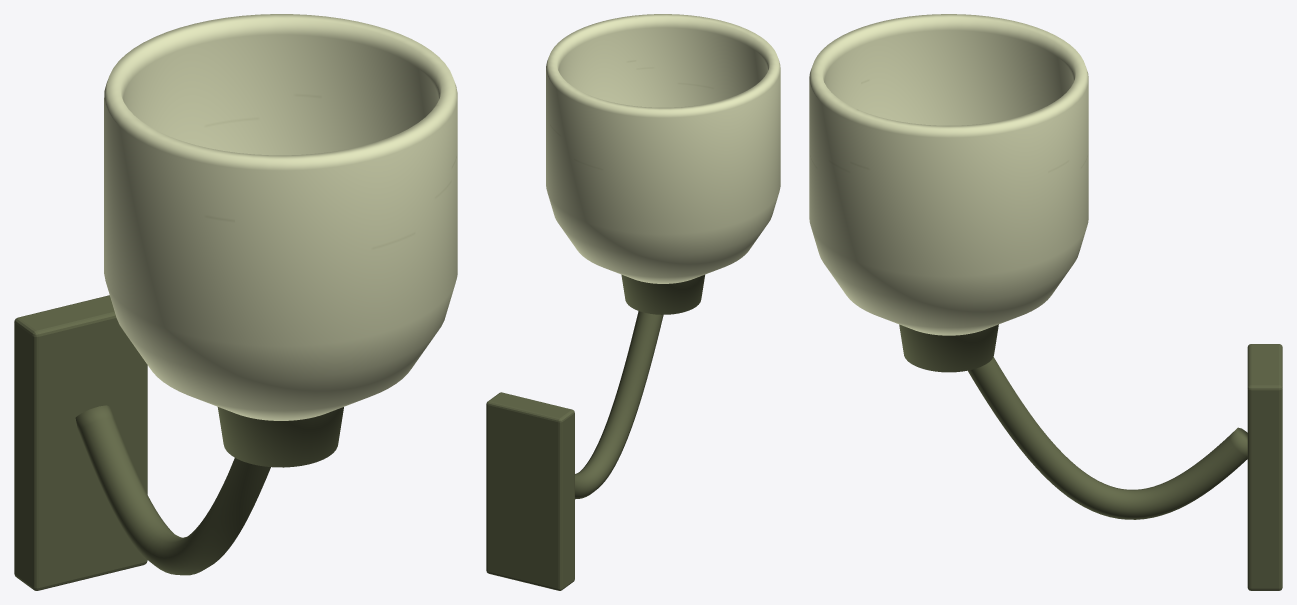
The model's file is CurvedLamp_ARCH01.fbx.
3 views of the same model, side by side, from view 1: azimuth 30°, elevation 25°; view 2: azimuth 150°, elevation 25°; view 3: azimuth 270°, elevation 25° (orthographic). The views are drawn at different scales.
Visible parts, largest first — view 1: CurvedLamp; view 2: CurvedLamp; view 3: CurvedLamp.
Boxes of the visible parts, box(x1,y1,x2,y2) form: CurvedLamp: box(14, 14, 457, 590); CurvedLamp: box(486, 14, 780, 590); CurvedLamp: box(809, 14, 1282, 590).
Size of the model in its own units: 0.222 by 0.4364 by 0.376.
2 materials, 1 textured.
